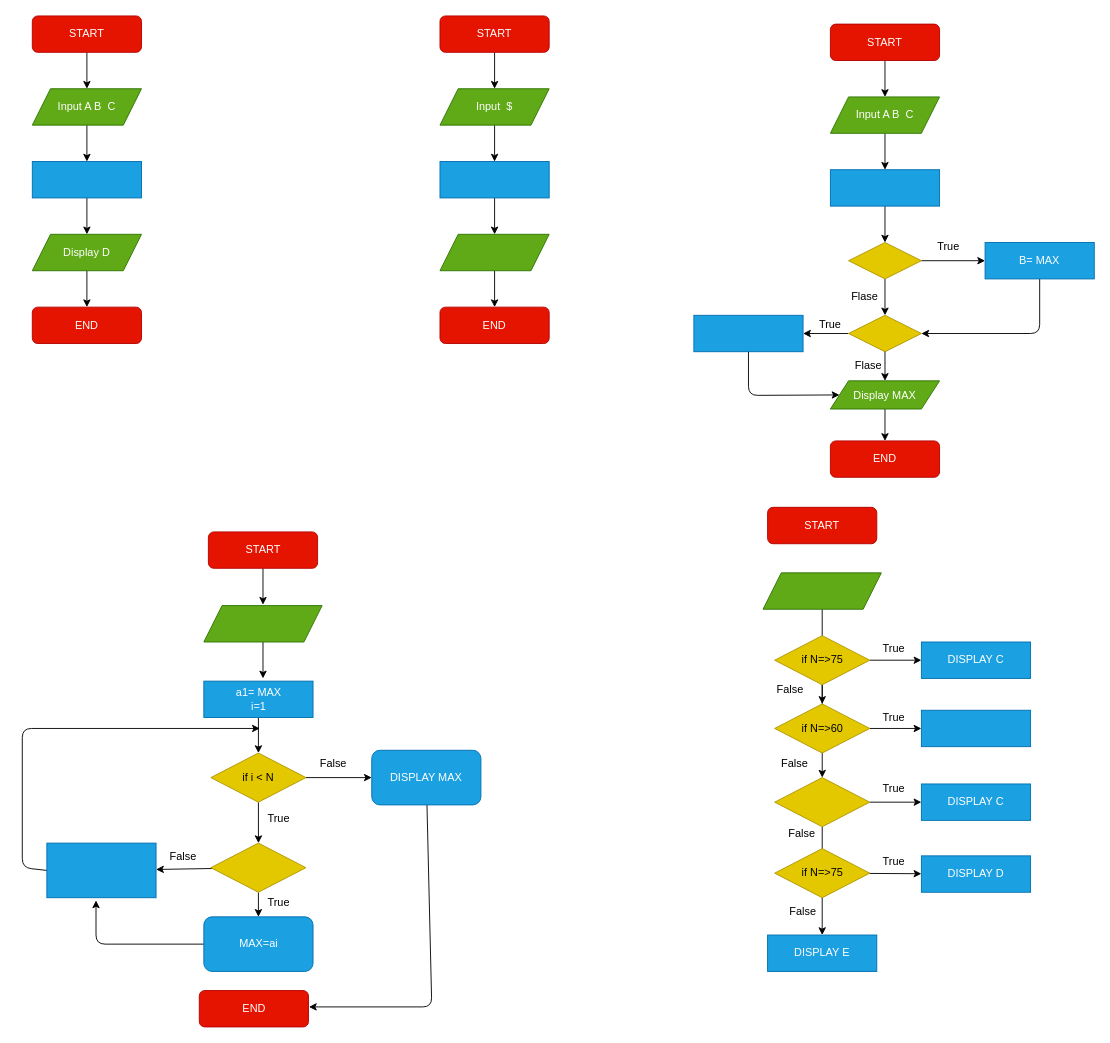
Some shapes in this 1110 by 1043 pixel diagram are drawn without their labels. The centre of each missing label's shape, as x and y in pixels:
"A= MAX" belongs at (884,187).
"a=a1+1" belongs at (101,870).
"B>A" belongs at (884,260).
"C= MAX" belongs at (748,333).
"C>B" belongs at (884,333).
"D= A+B+C/3" belongs at (86,179).
"DISPLAY B" belongs at (975,728).
"Display VND" belongs at (494,252).
"if ai >MAX" belongs at (258,867).
"if N=>45" belongs at (822,802).
"Input N" belongs at (821,590).
"Input N Input a1,a2...an" belongs at (262,623).
"VND= $*23000" belongs at (494,179).
